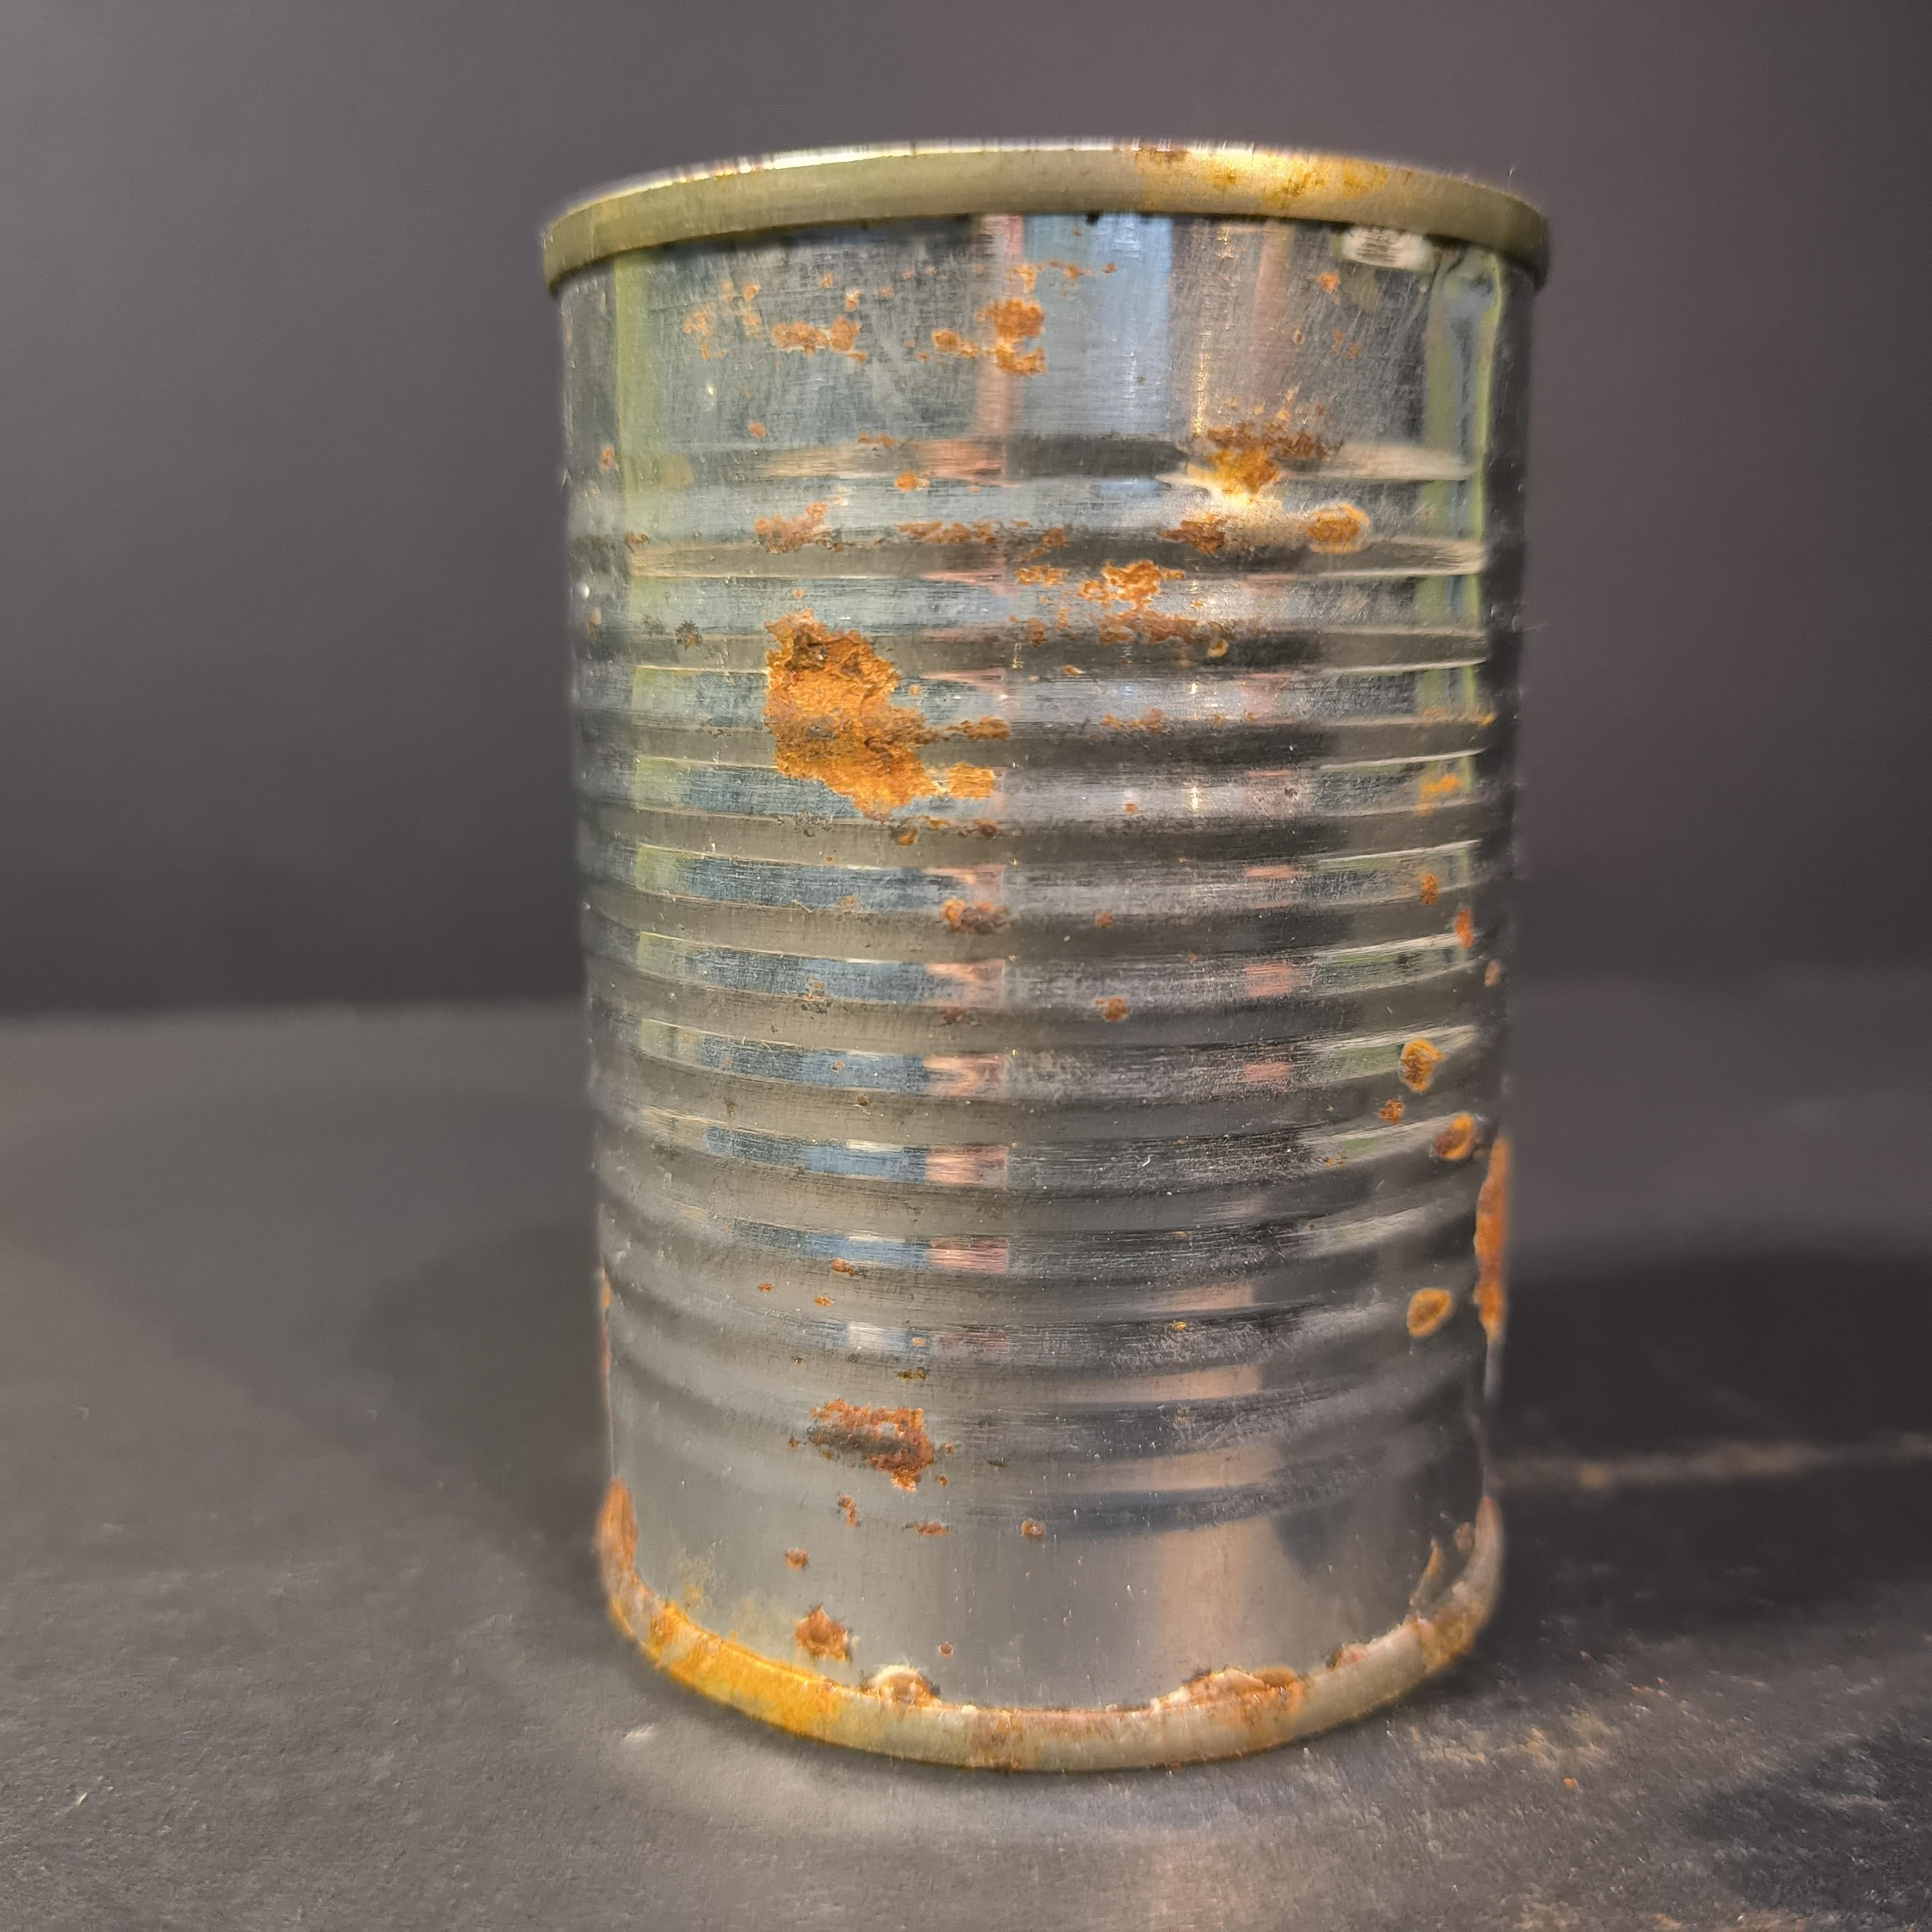Rusted: (520, 113, 1578, 1831)
